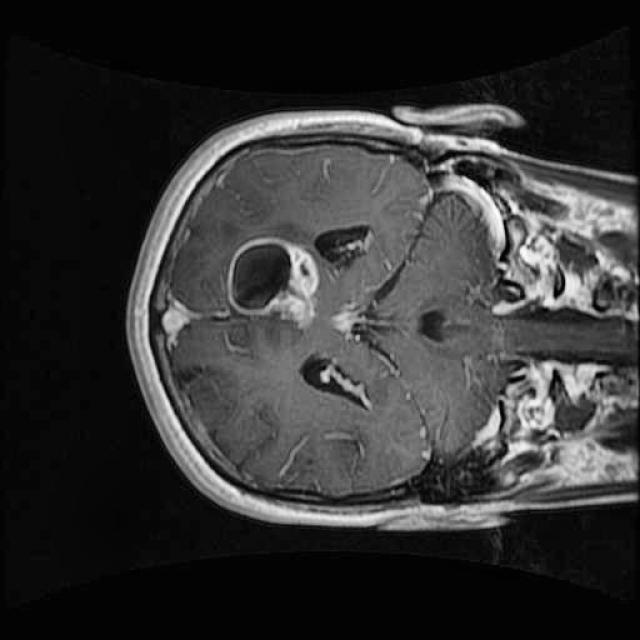Tumor: (216, 228, 330, 336)
